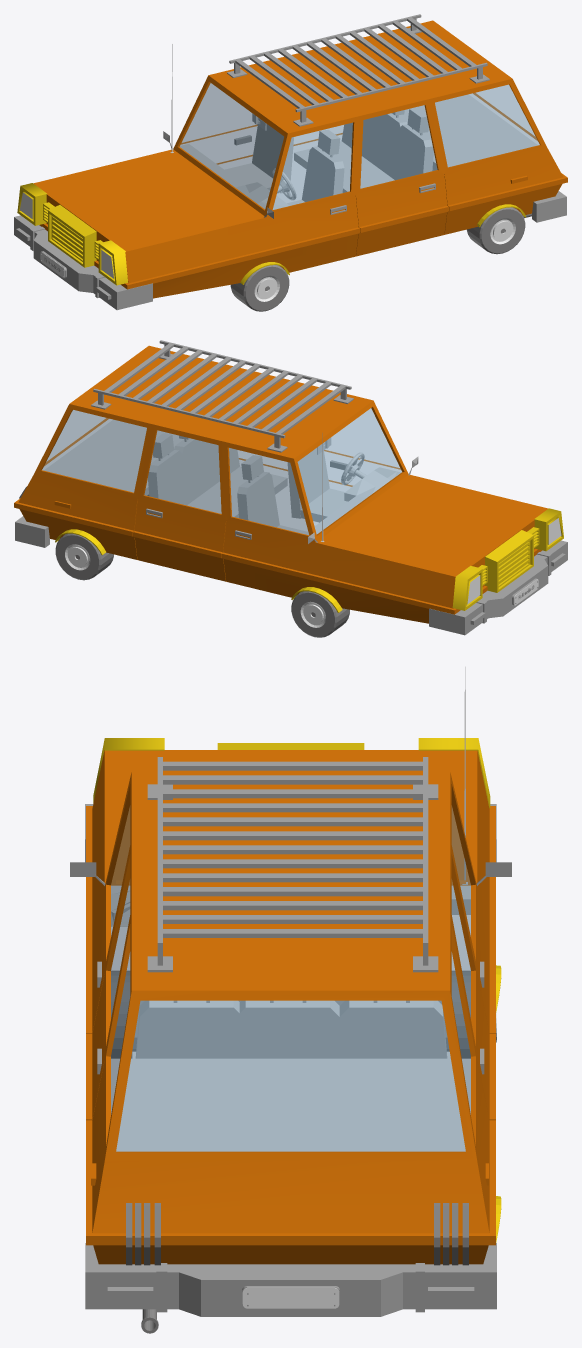
File: Instacart_Project_car_Red.gltf
3 renders of one model, top to bottom at view 1: azimuth 30°, elevation 25°; view 2: azimuth 150°, elevation 25°; view 3: azimuth 270°, elevation 25°, orthographic. The views are drawn at different scales.
Visible parts, largest first — view 1: body-Orange, body-Glass, hood, back (×2), front, seat01, ventilation, seat03, seat04, seat02, TIRE01-Black, TIRE03-Black (+7 smaller); view 2: body-Orange, body-Glass, hood, back (×2), front, seat01, ventilation, seat02, seat05, seat04, TIRE02-Black, TIRE04-Black (+7 smaller); view 3: body-Orange, body-Glass, back (×2), hood, seat03, seat05, seat04, car, number plate white, TIRE01-Black, TIRE02-Black, ventilation (+4 smaller).
Boxes of the visible parts, box(x1,y1,x2,y2) form: body-Orange: box(33, 20, 567, 298); body-Glass: box(180, 83, 539, 209); hood: box(227, 14, 489, 126); back (×2): box(400, 94, 566, 222); front: box(14, 215, 152, 310); seat01: box(287, 130, 344, 205); ventilation: box(43, 202, 102, 267); seat03: box(344, 108, 433, 192); seat04: box(342, 110, 407, 192); seat02: box(225, 124, 293, 193); TIRE01-Black: box(230, 265, 289, 311); TIRE03-Black: box(467, 207, 525, 254); body-Orange: box(14, 345, 548, 623); body-Glass: box(42, 408, 401, 534); hood: box(91, 340, 353, 452); back (×2): box(15, 419, 183, 547); front: box(429, 540, 567, 635); seat01: box(287, 448, 347, 522); ventilation: box(478, 527, 539, 592); seat02: box(237, 455, 306, 533); seat05: box(148, 433, 237, 517); seat04: box(174, 435, 238, 517); TIRE02-Black: box(291, 591, 349, 637); TIRE04-Black: box(55, 533, 113, 580); body-Orange: box(86, 750, 495, 1264); body-Glass: box(111, 806, 470, 1151); back (×2): box(85, 1058, 496, 1316); hood: box(147, 757, 438, 972); seat03: box(132, 1000, 246, 1058); seat05: box(337, 1000, 450, 1058); seat04: box(233, 1000, 342, 1058); car: box(126, 1203, 468, 1265); number plate white: box(242, 1287, 339, 1308); TIRE01-Black: box(111, 970, 137, 1058); TIRE02-Black: box(445, 970, 470, 1058); ventilation: box(217, 743, 364, 749).
Bounding box in the file's own units: 87.67 × 35.4 × 35.5.
